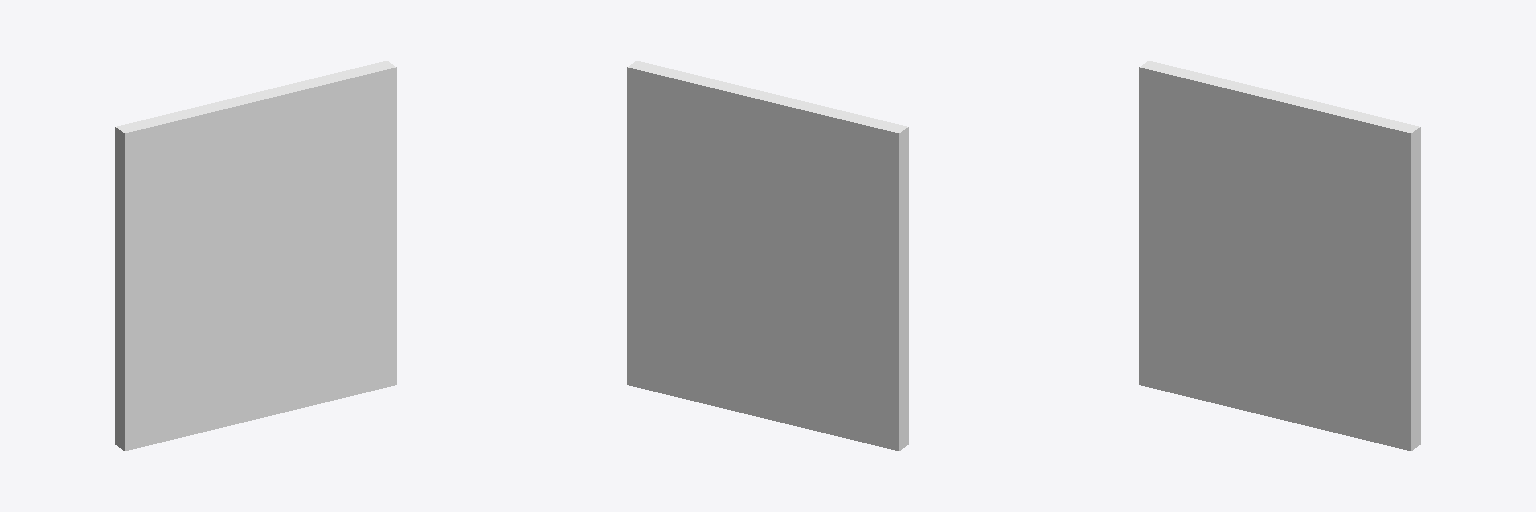
The model's file is doubledoor.obj.
The picture shows the model from 3 angles: view 1: azimuth 30°, elevation 25°; view 2: azimuth 150°, elevation 25°; view 3: azimuth 330°, elevation 25°; orthographic projection.
Parts seen in each view (by area): view 1: object 1; view 2: object 1; view 3: object 1.
Part boxes in pixels (x1,y1,x2,y2): object 1: (115,61,396,450); object 1: (627,61,908,450); object 1: (1139,61,1420,450).
Bounding box in the file's own units: 5.1 × 5.7 × 0.3.